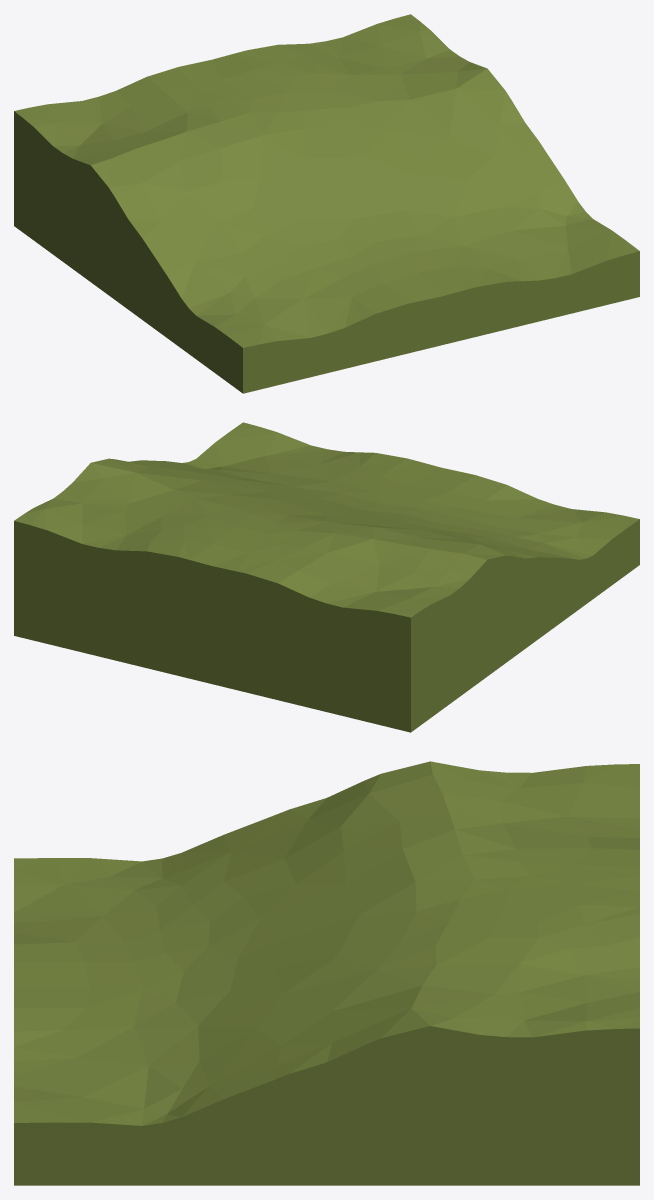
The model's file is Terrian_Grass_Hill-02.fbx.
3 renders of one model, top to bottom at view 1: azimuth 30°, elevation 25°; view 2: azimuth 150°, elevation 25°; view 3: azimuth 270°, elevation 25°, orthographic. The views are drawn at different scales.
Visible parts, largest first — view 1: Terrian_Grass_Hill-02; view 2: Terrian_Grass_Hill-02; view 3: Terrian_Grass_Hill-02.
Boxes of the visible parts, x1,y1,x2,y2 form: Terrian_Grass_Hill-02: (14,14,639,393); Terrian_Grass_Hill-02: (14,422,639,732); Terrian_Grass_Hill-02: (14,761,639,1185).
Bounding box in the file's own units: 3600 × 1032 × 3600.
Materials: 1 (1 with a texture image).
